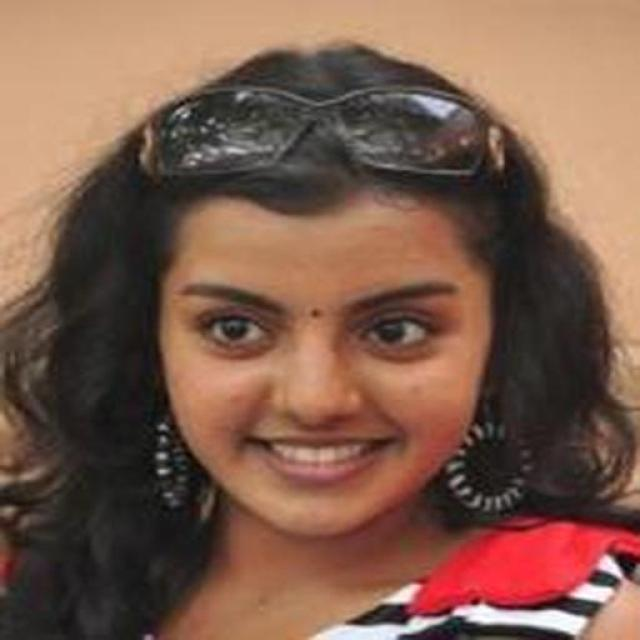bareface: (120, 46, 522, 548)
